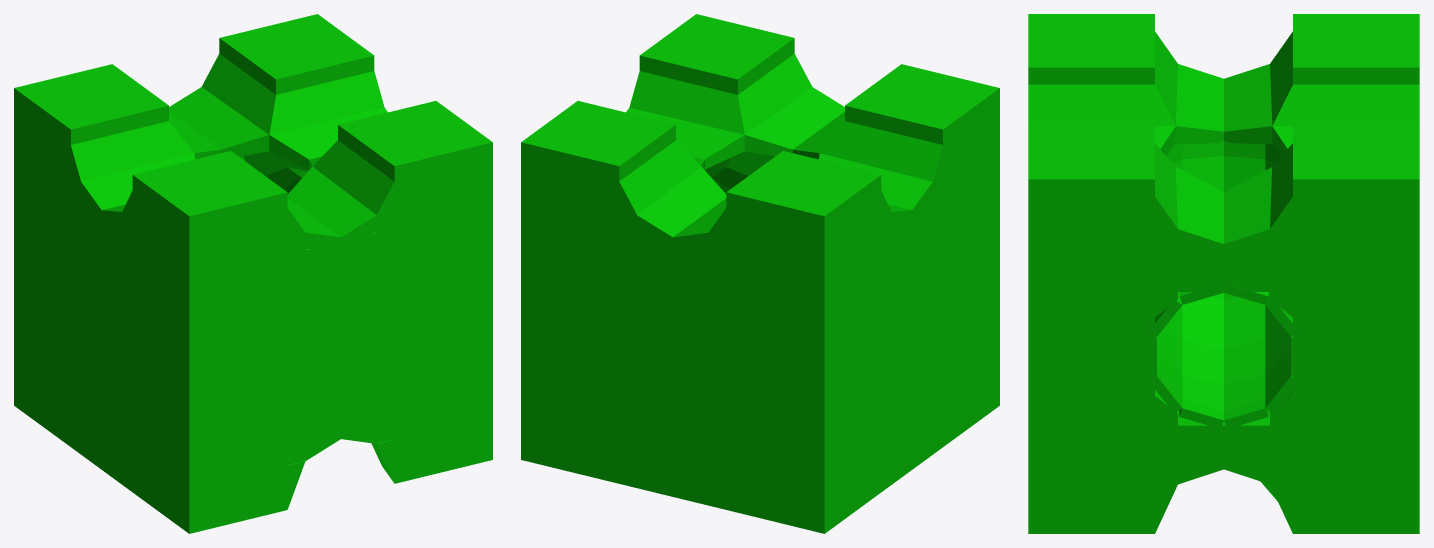
Rendered from UCXKugelbahn.26.fbx.
3 renders of one model, left to right at view 1: azimuth 30°, elevation 25°; view 2: azimuth 150°, elevation 25°; view 3: azimuth 270°, elevation 25°, orthographic. The views are drawn at different scales.
Visible parts, largest first — view 1: UCX_Kugelbahn.26_low; view 2: UCX_Kugelbahn.26_low; view 3: UCX_Kugelbahn.26_low.
Part boxes in pixels (x1,y1,x2,y2): UCX_Kugelbahn.26_low: [14, 14, 492, 533]; UCX_Kugelbahn.26_low: [521, 14, 999, 533]; UCX_Kugelbahn.26_low: [1028, 14, 1419, 533].
Bounding box in the file's own units: 0.05 × 0.05 × 0.05.
